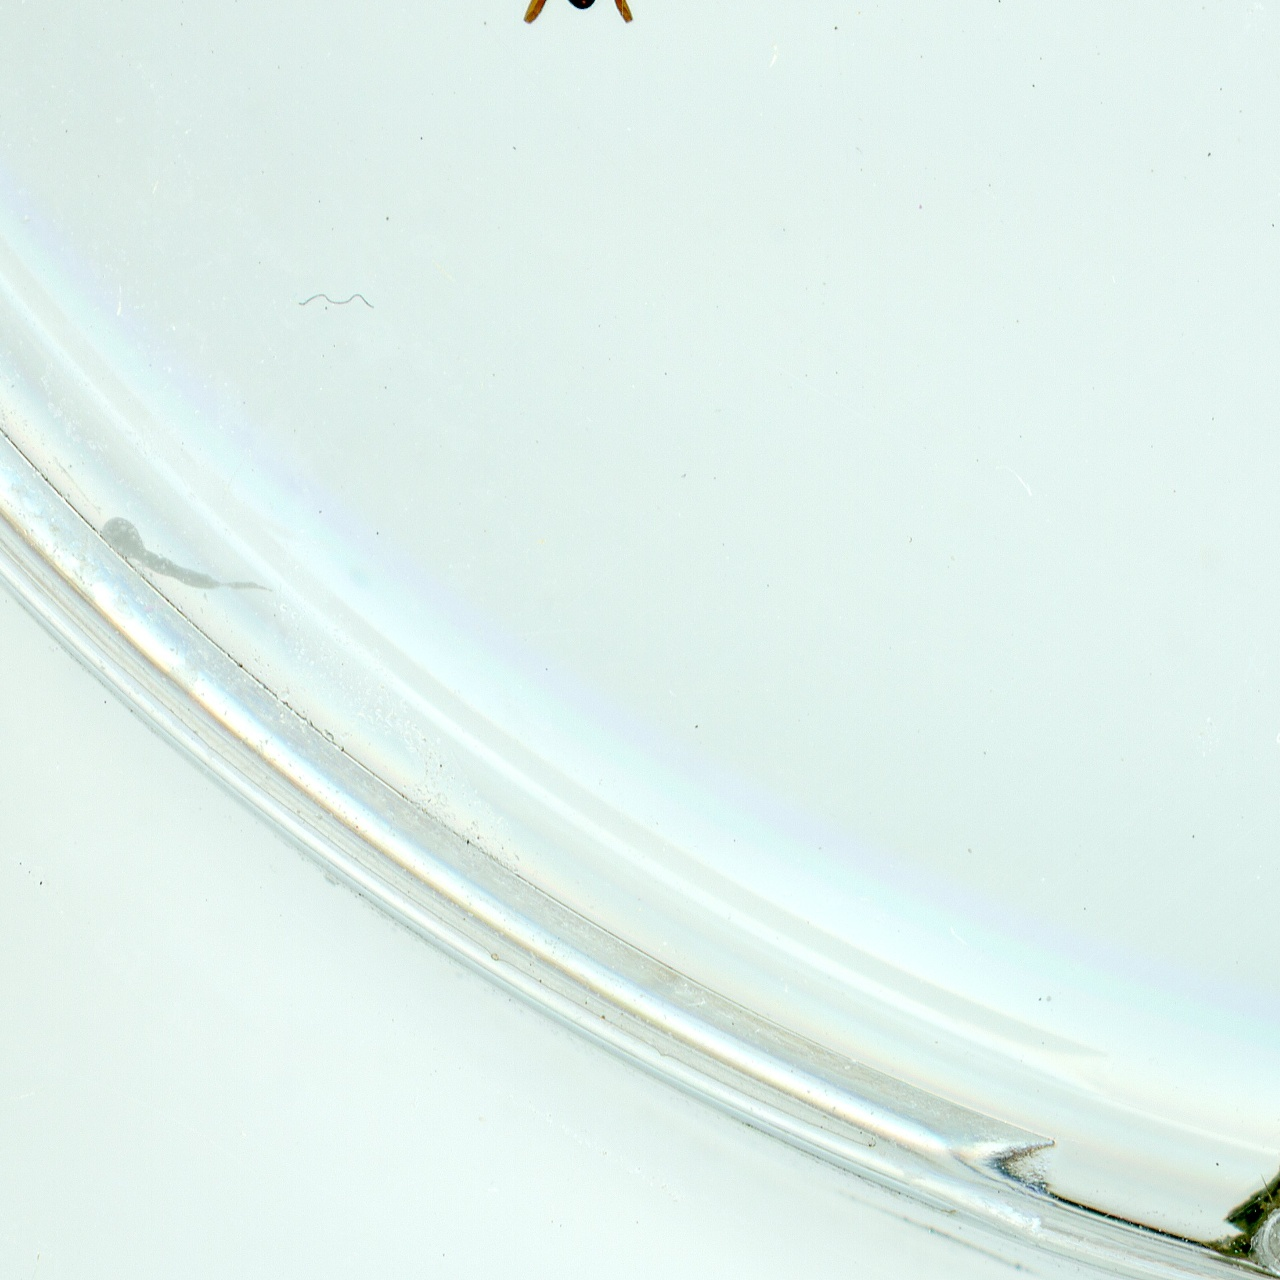arthropod: (491, 0, 665, 39)
